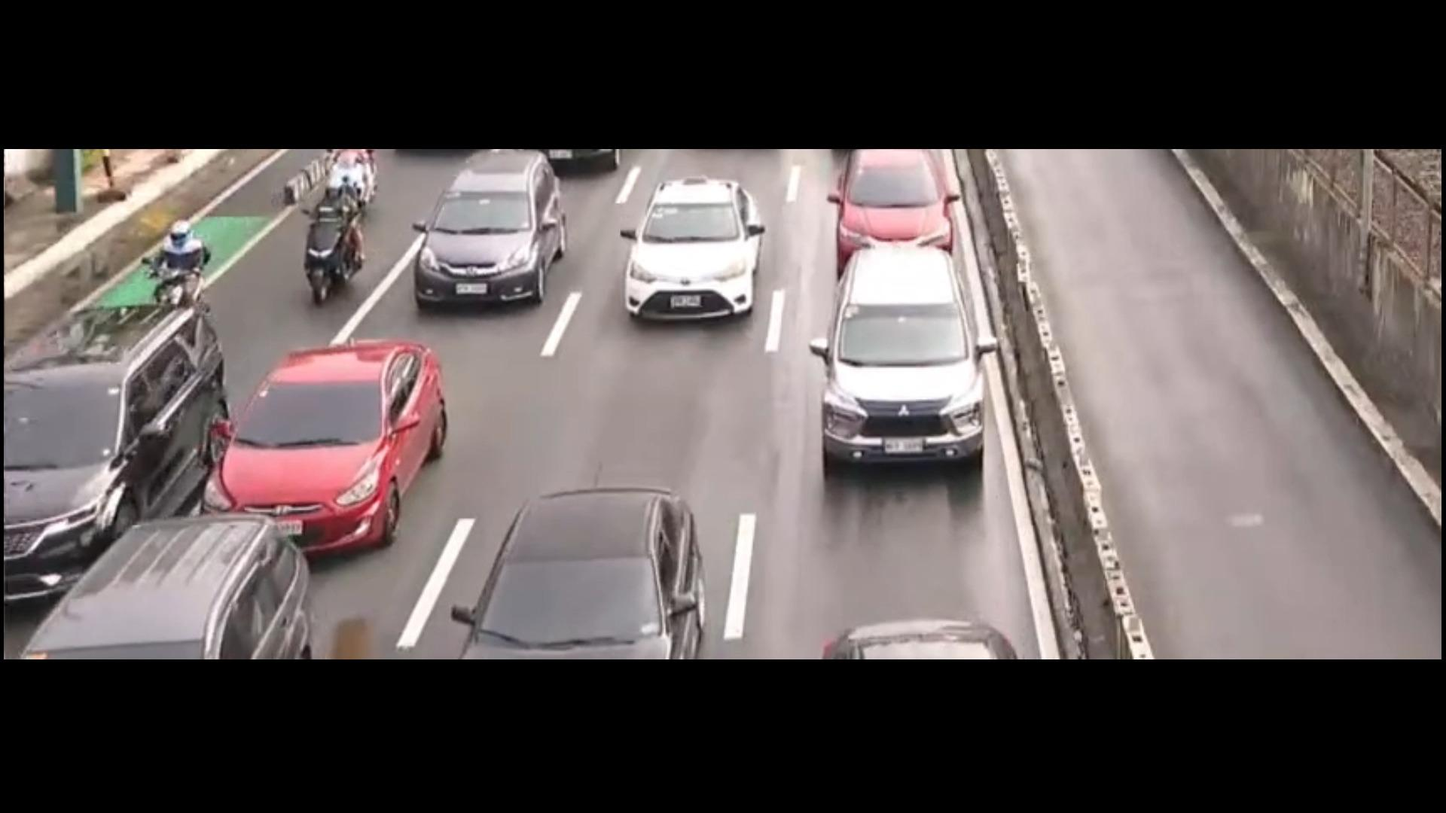Motorcycle: (287, 172, 379, 295), (140, 213, 207, 303)
SUV: (0, 303, 236, 575), (18, 514, 326, 664), (807, 247, 984, 477), (379, 142, 597, 328)
Sedan: (159, 307, 464, 529), (432, 469, 754, 651), (611, 172, 781, 334), (826, 128, 968, 268)
